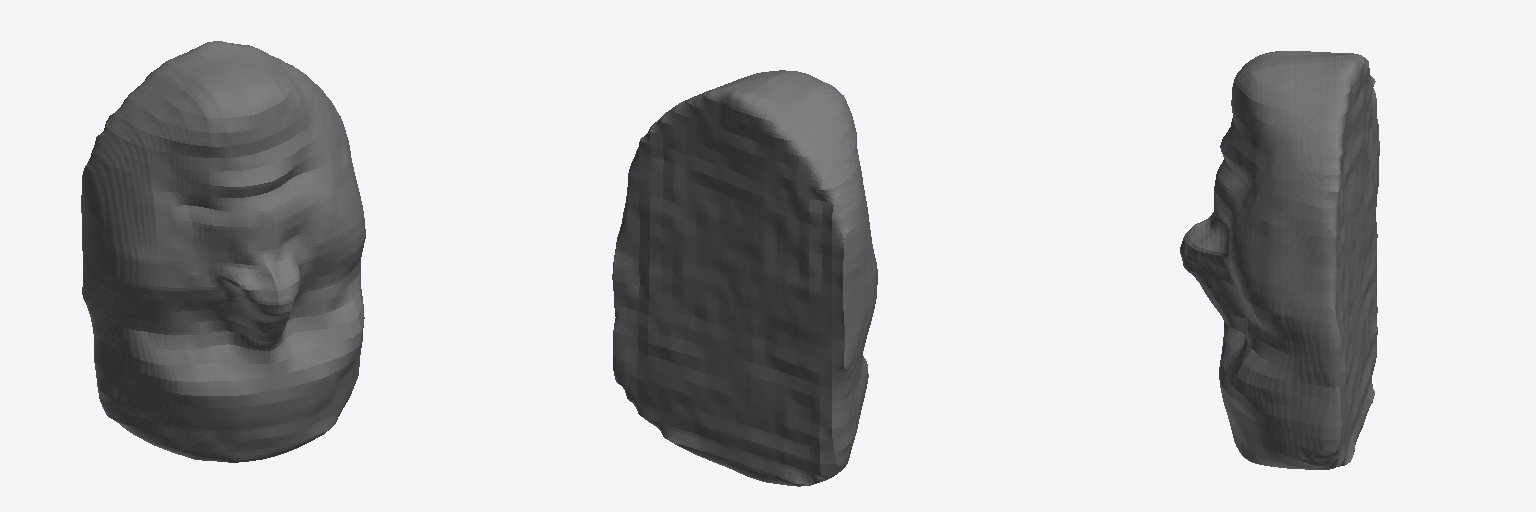
The model's file is markface.obj.
3 views of the same model, side by side, from view 1: azimuth 30°, elevation 25°; view 2: azimuth 150°, elevation 25°; view 3: azimuth 270°, elevation 25° (orthographic).
Visible parts, largest first — view 1: foo; view 2: foo; view 3: foo.
Part boxes in pixels (left/top/right/bottom): foo: left=81, top=41, right=365, bottom=462; foo: left=612, top=70, right=877, bottom=486; foo: left=1180, top=51, right=1379, bottom=469.
Size of the model in its own units: 83.12 by 118 by 56.5.